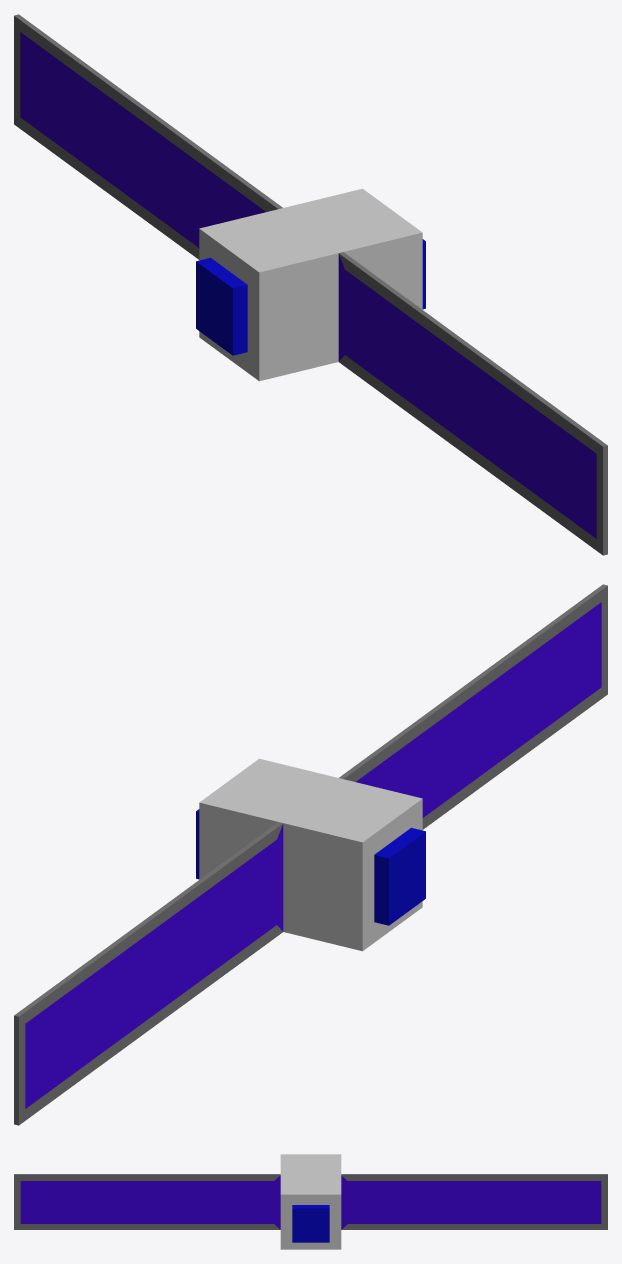
The model's file is Solar_Medium.obj.
3 views of the same model, one above another, from view 1: azimuth 30°, elevation 25°; view 2: azimuth 150°, elevation 25°; view 3: azimuth 270°, elevation 25° (orthographic). The views are drawn at different scales.
Parts seen in each view (by area): view 1: Solar_Medium_Cube.010; view 2: Solar_Medium_Cube.010; view 3: Solar_Medium_Cube.010.
Part boxes in pixels (bbox=[...]): Solar_Medium_Cube.010: bbox=[14, 14, 607, 555]; Solar_Medium_Cube.010: bbox=[14, 584, 607, 1125]; Solar_Medium_Cube.010: bbox=[14, 1154, 607, 1249].
Size of the model in its own units: 1.63 by 0.877 by 8.6.
